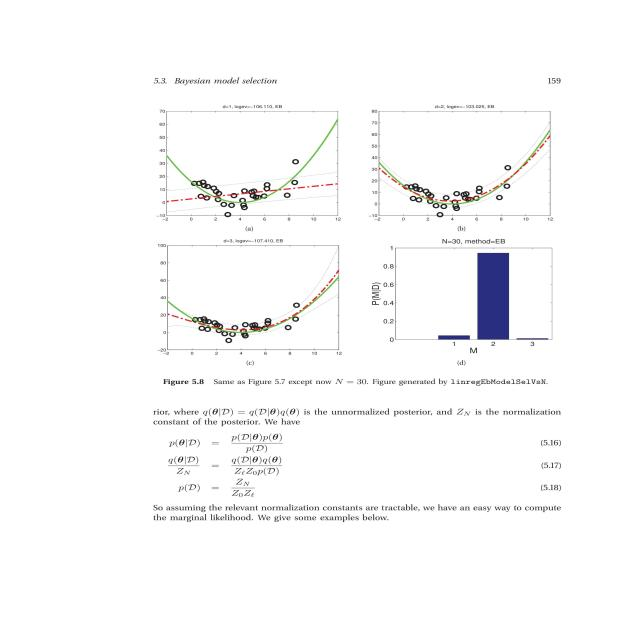diagram: (133, 74, 640, 401)
